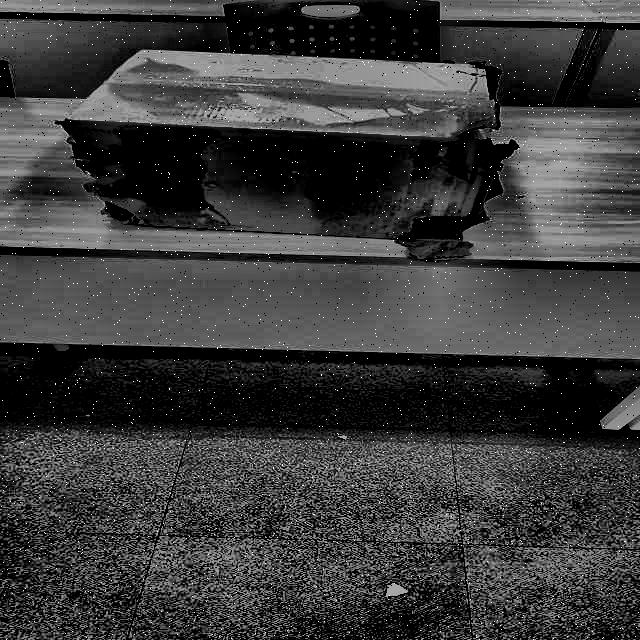box: (35, 36, 539, 249)
hole: (409, 169, 496, 239), (77, 200, 145, 233)
wet: (76, 51, 512, 229)
